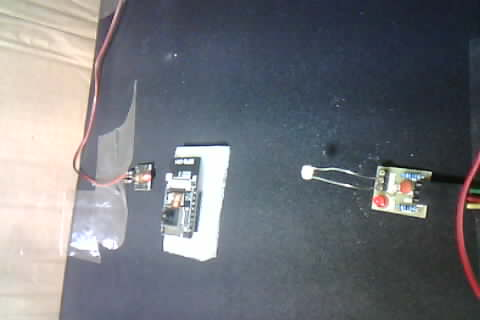esp32: (158, 148, 231, 256)
